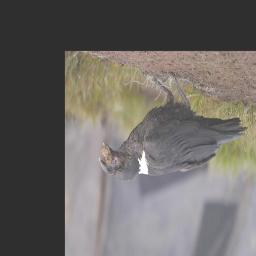Crow: (98, 68, 249, 185)
